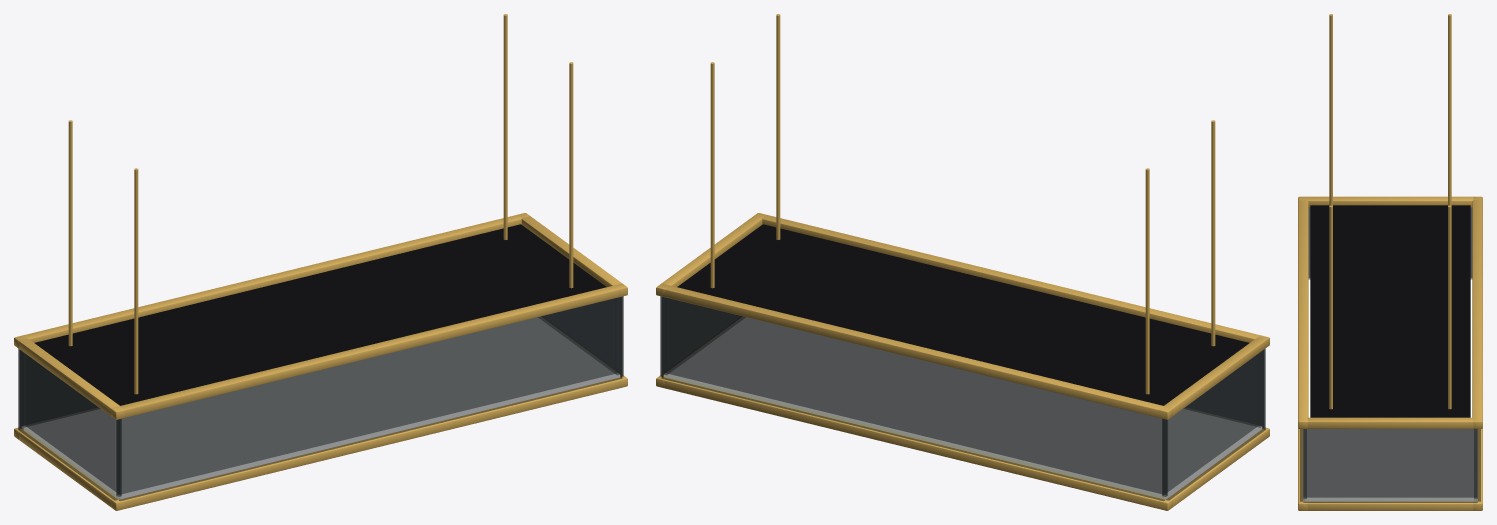
Rendered from tideline_table_light.glb.
3 views of the same model, side by side, from view 1: azimuth 30°, elevation 25°; view 2: azimuth 150°, elevation 25°; view 3: azimuth 270°, elevation 25° (orthographic). The views are drawn at different scales.
Visible parts, largest first — view 1: tideline_table_light; view 2: tideline_table_light; view 3: tideline_table_light.
Boxes of the visible parts, x1,y1,x2,y2 form: tideline_table_light: (14, 14, 627, 510); tideline_table_light: (656, 14, 1269, 510); tideline_table_light: (1298, 14, 1482, 510).
Size of the model in its own units: 1.53 by 0.912 by 0.53.
